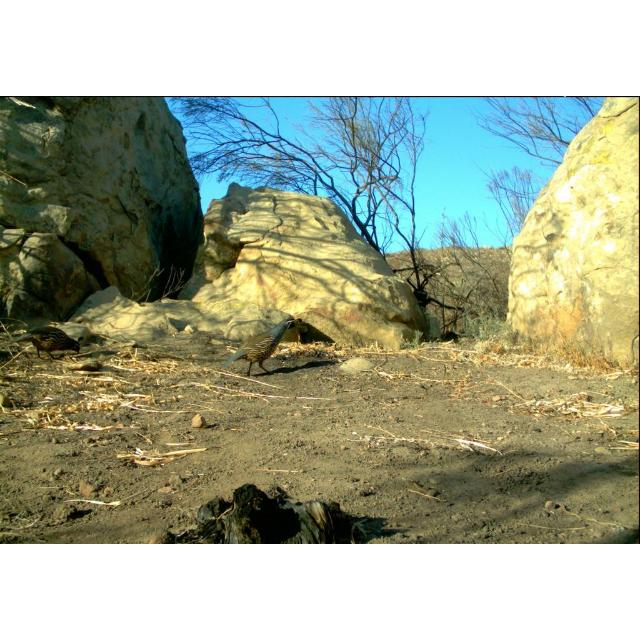animals: (230, 311, 300, 381)
